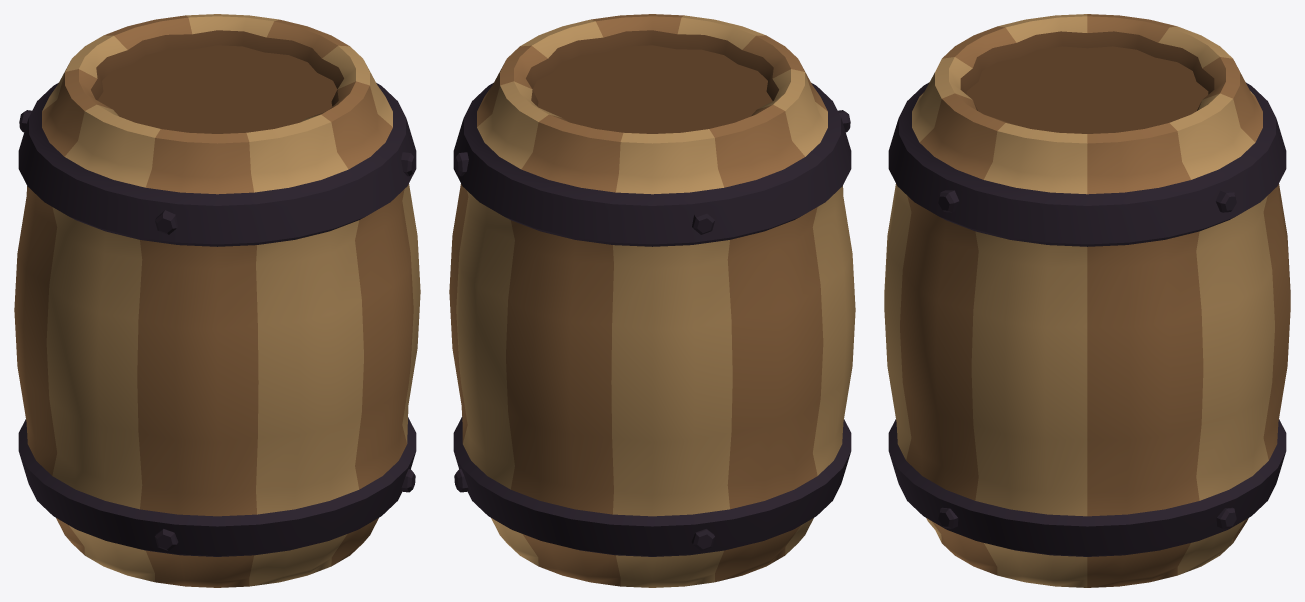
The model's file is Barrel_31.glb.
The picture shows the model from 3 angles, left to right: view 1: azimuth 30°, elevation 25°; view 2: azimuth 150°, elevation 25°; view 3: azimuth 270°, elevation 25°; orthographic projection.
Visible parts, largest first — view 1: Barrel_31; view 2: Barrel_31; view 3: Barrel_31.
Part boxes in pixels (x1,y1,x2,y2): Barrel_31: [14, 14, 420, 587]; Barrel_31: [449, 14, 855, 587]; Barrel_31: [884, 14, 1290, 587].
Size of the model in its own units: 2.02 by 2.52 by 2.05.
